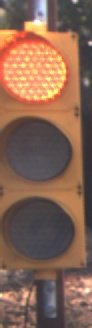Red: (2, 16, 85, 303)
